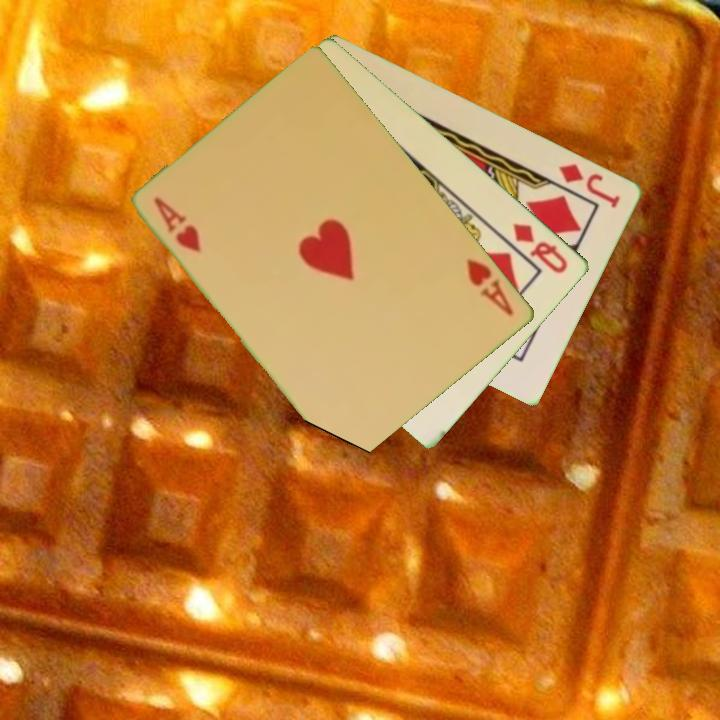Ah: (463, 254, 517, 319), (151, 193, 205, 256)
Jd: (555, 159, 624, 211)
Qd: (510, 219, 572, 277)
